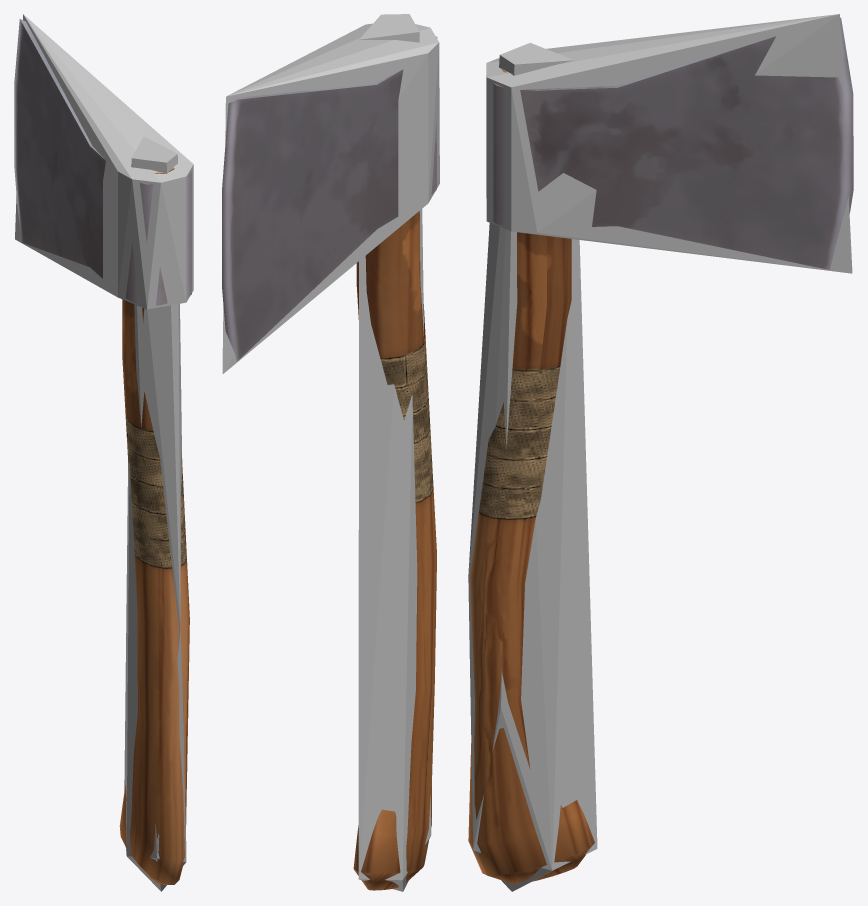
The model's file is SM_Tools01_5.fbx.
3 renders of one model, left to right at view 1: azimuth 30°, elevation 25°; view 2: azimuth 150°, elevation 25°; view 3: azimuth 270°, elevation 25°, orthographic. The views are drawn at different scales.
Parts seen in each view (by area): view 1: SM_Tools01_5, SM_Tools01_5_ConvexHulls; view 2: SM_Tools01_5, SM_Tools01_5_ConvexHulls; view 3: SM_Tools01_5, SM_Tools01_5_ConvexHulls.
Part boxes in pixels (left/top/right/bottom): SM_Tools01_5: left=14, top=19, right=191, bottom=884; SM_Tools01_5_ConvexHulls: left=15, top=14, right=193, bottom=891; SM_Tools01_5: left=222, top=33, right=437, bottom=890; SM_Tools01_5_ConvexHulls: left=222, top=14, right=439, bottom=891; SM_Tools01_5: left=468, top=17, right=853, bottom=883; SM_Tools01_5_ConvexHulls: left=468, top=14, right=852, bottom=891.
Size of the model in its own units: 6.92 by 30.29 by 76.42.
2 materials, 1 textured.
